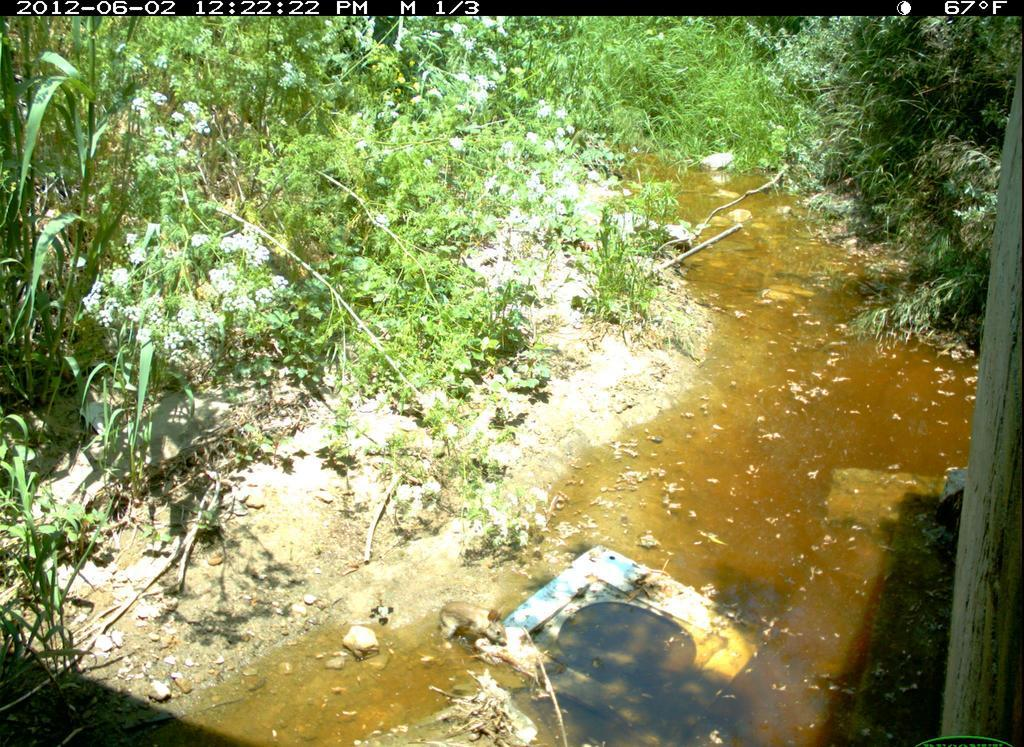rabbit: (433, 601, 514, 657)
